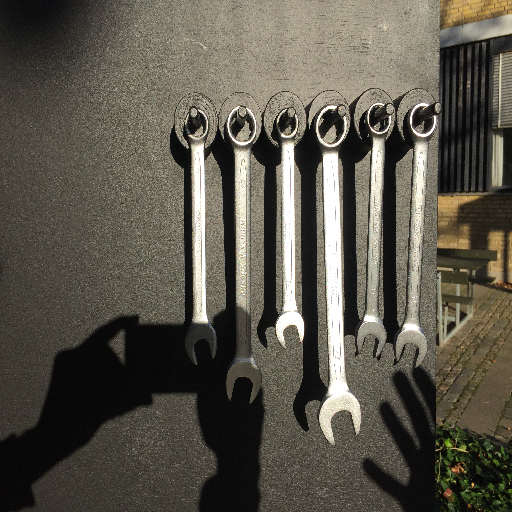bottom: (317, 391, 363, 446), (224, 358, 263, 405), (394, 323, 428, 372), (184, 321, 218, 366), (355, 315, 387, 360), (274, 311, 305, 348)
top: (312, 103, 349, 153), (224, 105, 260, 148), (406, 102, 438, 143), (363, 102, 394, 138), (273, 107, 302, 143), (184, 108, 210, 143)
